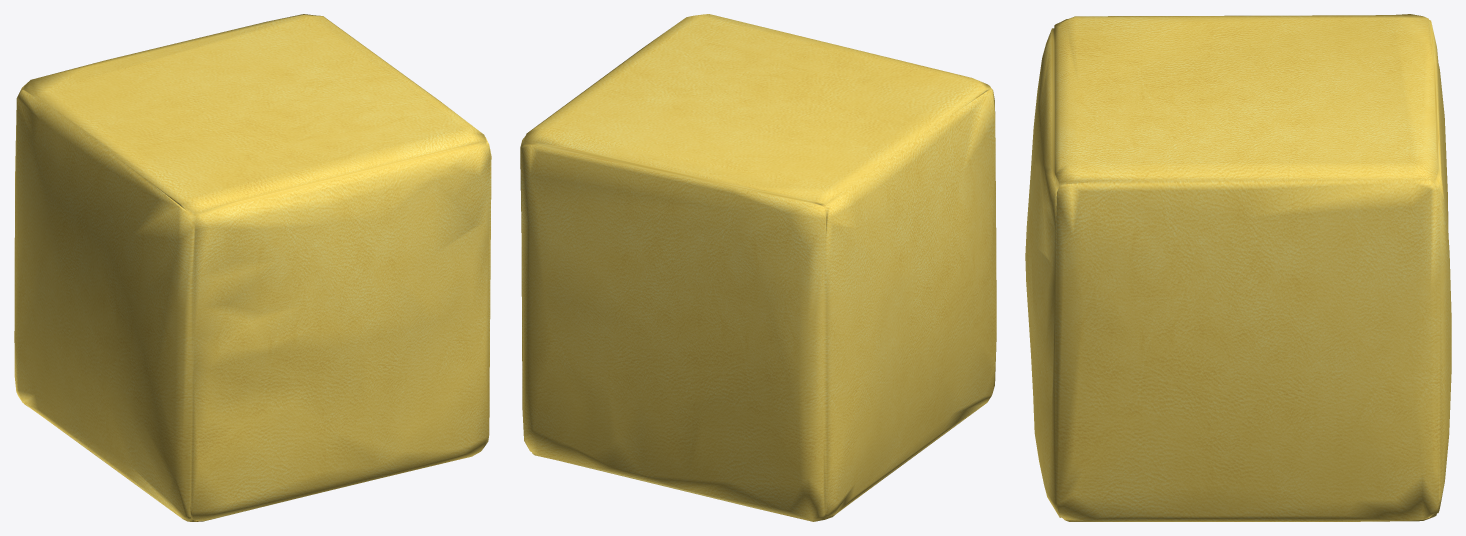
The picture shows the model from 3 angles, left to right: view 1: azimuth 30°, elevation 25°; view 2: azimuth 150°, elevation 25°; view 3: azimuth 270°, elevation 25°; orthographic projection. The views are drawn at different scales.
Parts seen in each view (by area): view 1: box 2; view 2: box 2; view 3: box 2.
Boxes of the visible parts, box(x1,y1,x2,y2) form: box 2: box(14, 14, 491, 521); box 2: box(520, 14, 996, 521); box 2: box(1025, 14, 1451, 521).
Size of the model in its own units: 11.5 by 10.73 by 11.68.
